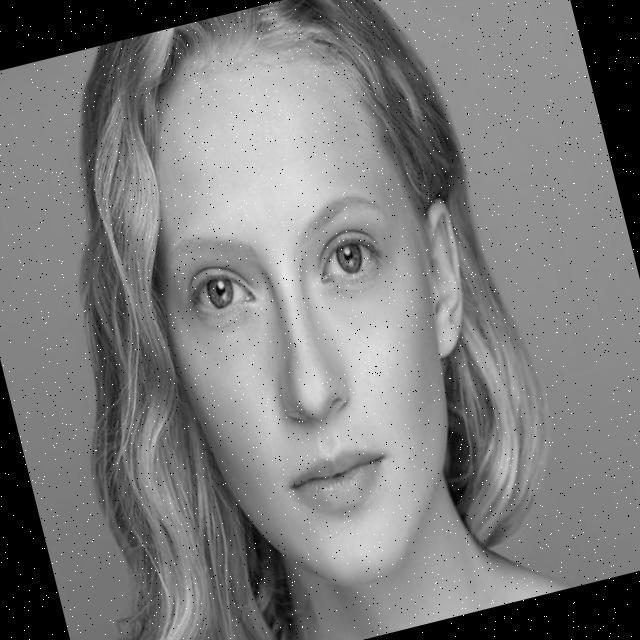Neutral: (110, 34, 502, 614)
